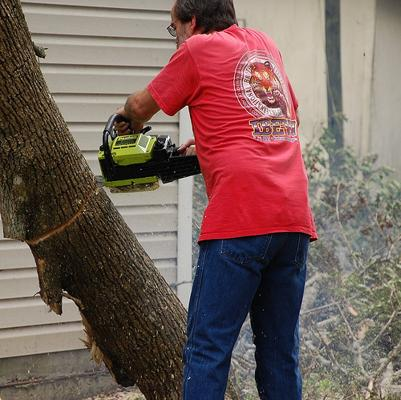person: (111, 1, 321, 400)
